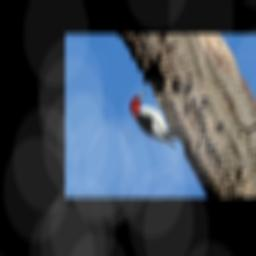Woodpecker: (123, 86, 187, 151)
